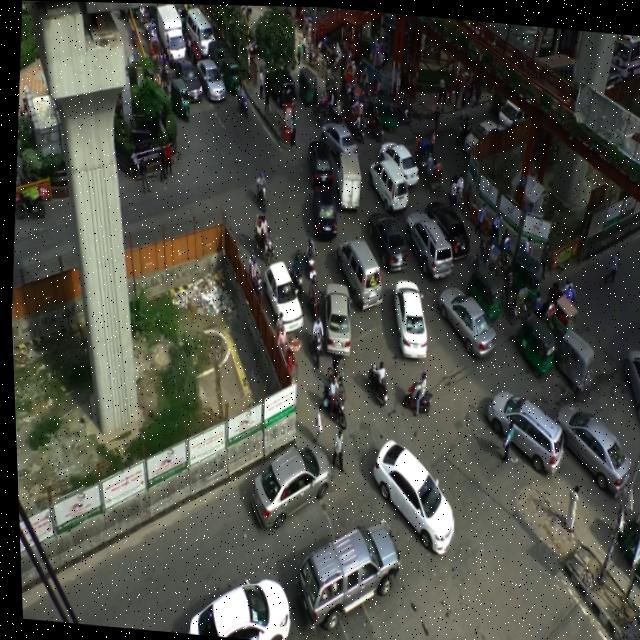cng: (547, 320, 592, 397), (513, 307, 554, 381), (466, 257, 503, 316), (501, 250, 544, 297), (165, 70, 190, 122), (295, 62, 322, 103), (224, 53, 247, 95), (368, 95, 398, 127), (202, 38, 227, 75)
rikshaw: (248, 206, 275, 263), (413, 156, 444, 197), (407, 134, 432, 167), (358, 72, 382, 106), (316, 48, 343, 76), (299, 34, 323, 64), (350, 66, 369, 101), (338, 59, 358, 87), (145, 40, 162, 71)
